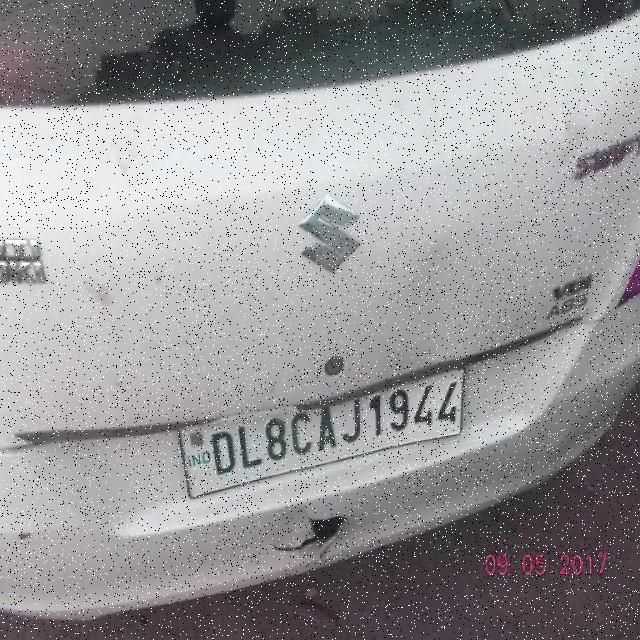car damage: (397, 227, 482, 365), (271, 511, 352, 568)
